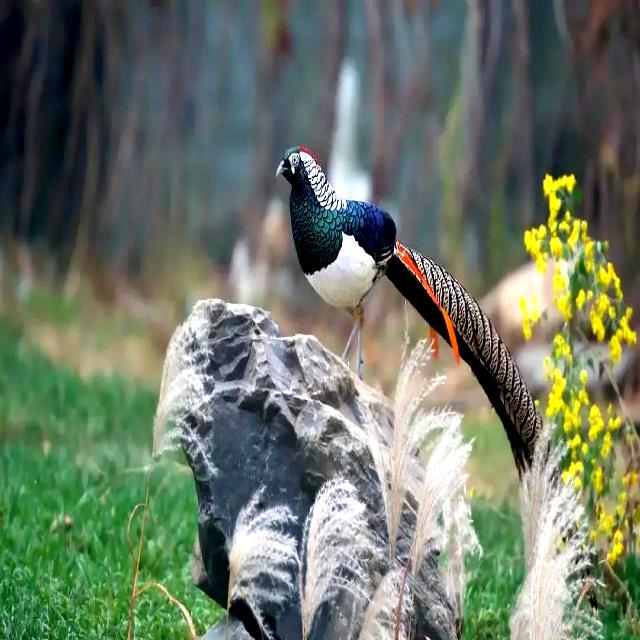Chrysolophus amherstiae: (385, 241, 539, 471)
